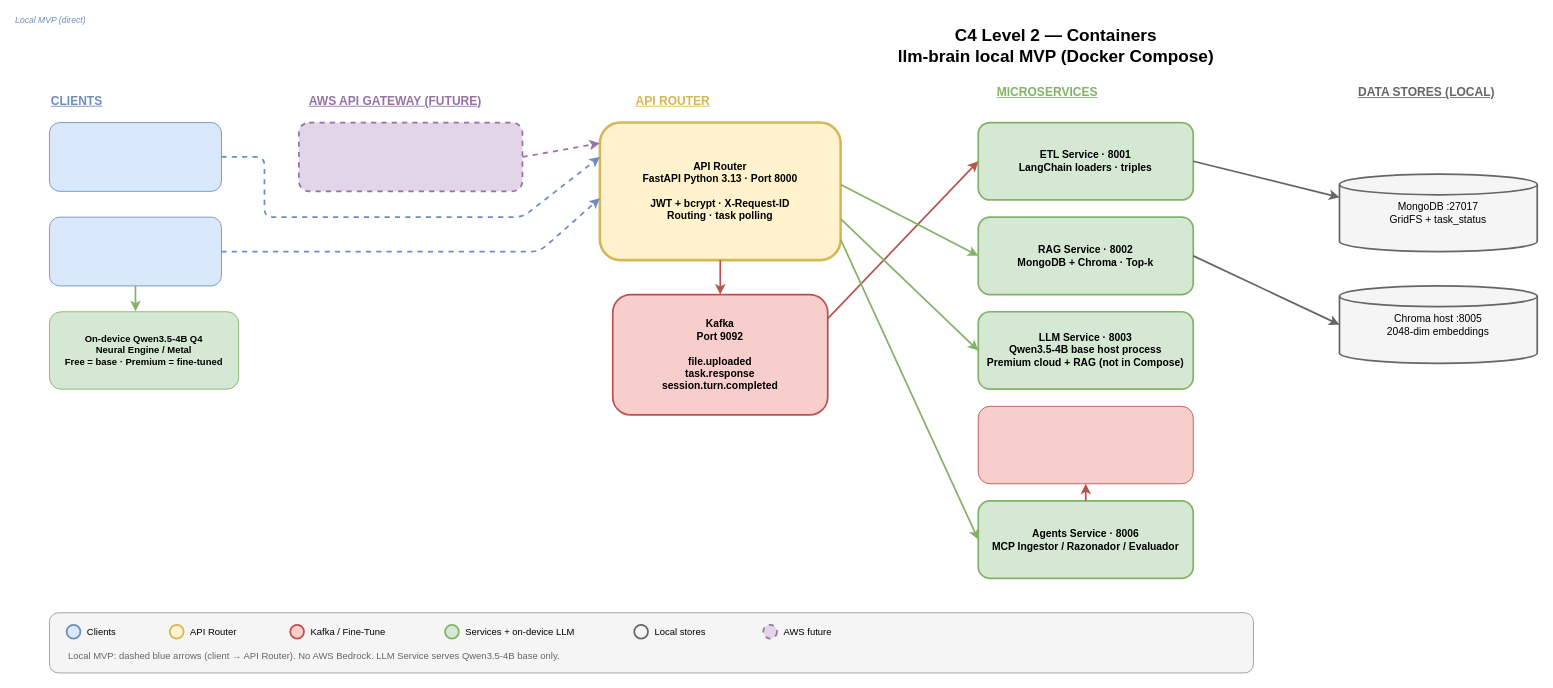
Some shapes in this 1553 by 688 pixel diagram are drawn without their labels. Here are the shapes that lost their labels. From the top down, the box of each, then its label:
(49, 122, 221, 191): Web App React + Chart.js [Premium]
(298, 121, 523, 192): AWS API Gateway Rate limit · HTTPS · WAF Out of MVP scope
(49, 216, 221, 286): Mobile App React Native iPhone [Free + Premium]
(977, 405, 1193, 484): Fine-Tune Service · 8004 Local LoRA → Premium on-device
